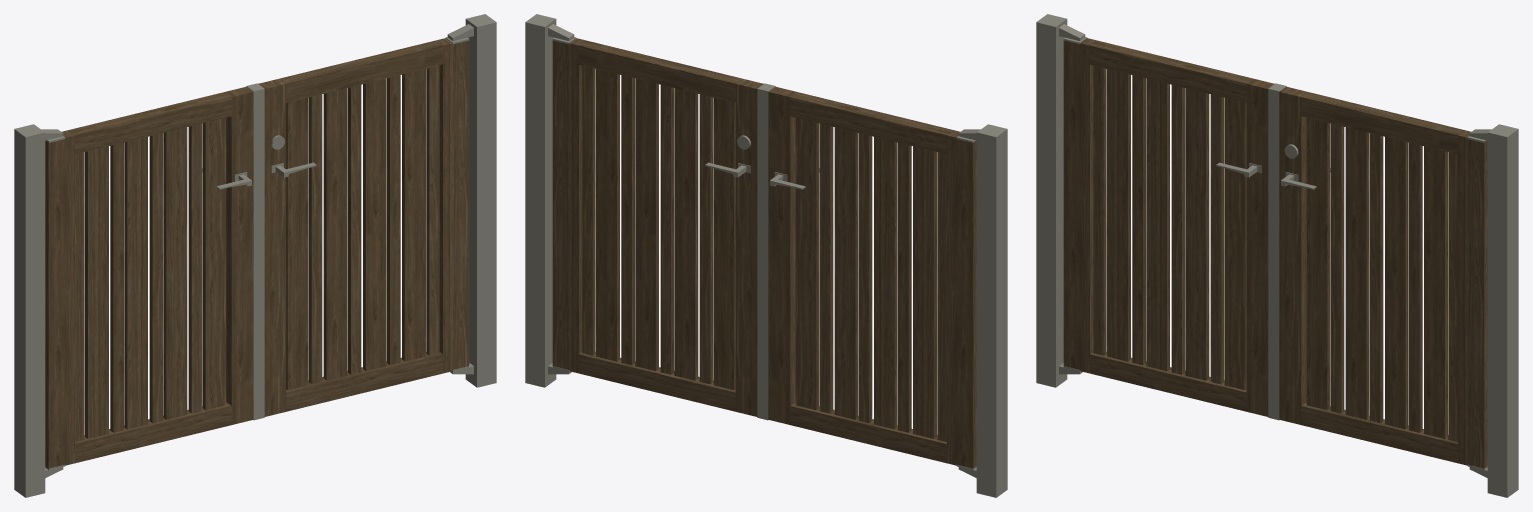
The model's file is awmonpi2-40-80tate_h1200-w800-800_brownebony.fbx.
3 views of the same model, side by side, from view 1: azimuth 30°, elevation 25°; view 2: azimuth 150°, elevation 25°; view 3: azimuth 330°, elevation 25° (orthographic).
Parts seen in each view (by area): view 1: awmonpi2-40-80tate_h1200-w800-800_chacoalgray; view 2: awmonpi2-40-80tate_h1200-w800-800_chacoalgray; view 3: awmonpi2-40-80tate_h1200-w800-800_chacoalgray.
Boxes of the visible parts, x1,y1,x2,y2 form: awmonpi2-40-80tate_h1200-w800-800_chacoalgray: [14, 14, 496, 497]; awmonpi2-40-80tate_h1200-w800-800_chacoalgray: [525, 14, 1007, 497]; awmonpi2-40-80tate_h1200-w800-800_chacoalgray: [1036, 14, 1518, 497].
Bounding box in the file's own units: 180 × 132 × 16.7.
Materials: 2 (2 with a texture image).
